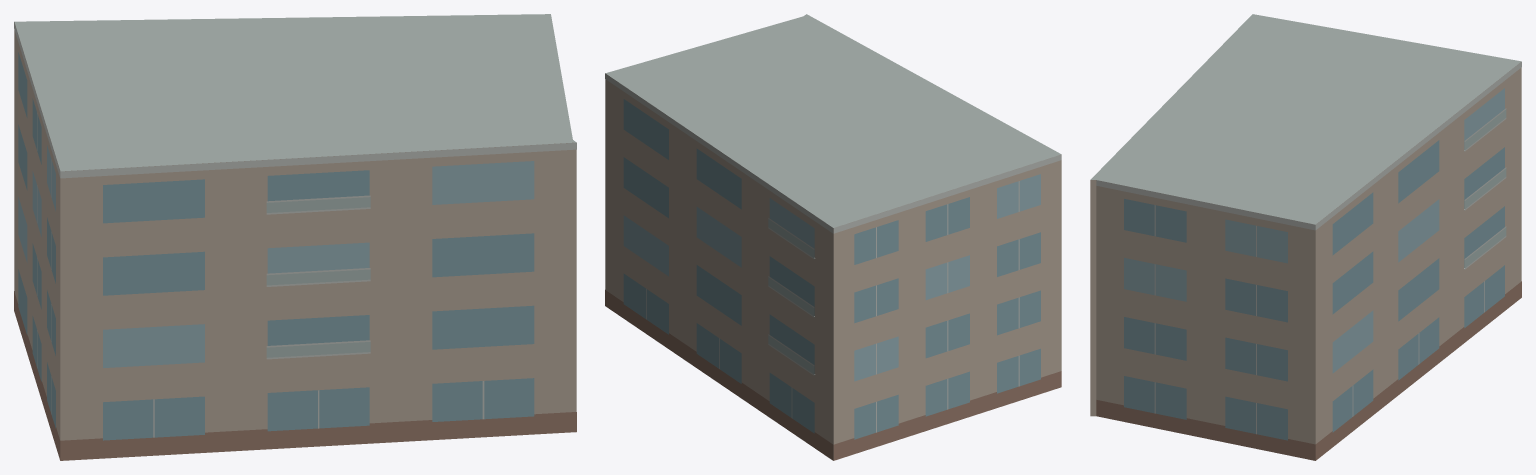
File: survey-upis-32821525.glb
3 renders of one model, left to right at view 1: azimuth 30°, elevation 25°; view 2: azimuth 150°, elevation 25°; view 3: azimuth 270°, elevation 25°, orthographic. The views are drawn at different scales.
Parts seen in each view (by area): view 1: survey-upis-32821525.tmp; view 2: survey-upis-32821525.tmp; view 3: survey-upis-32821525.tmp.
Boxes of the visible parts, box(x1,y1,x2,y2) form: survey-upis-32821525.tmp: box(14, 14, 576, 460); survey-upis-32821525.tmp: box(605, 14, 1061, 460); survey-upis-32821525.tmp: box(1090, 14, 1521, 460).
Size of the model in its own units: 19.06 by 9.96 by 16.5.
